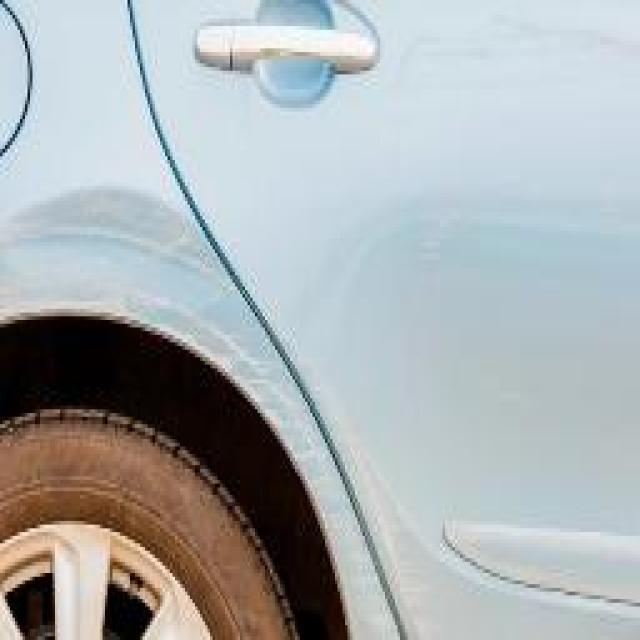Fender: (0, 164, 485, 640)
